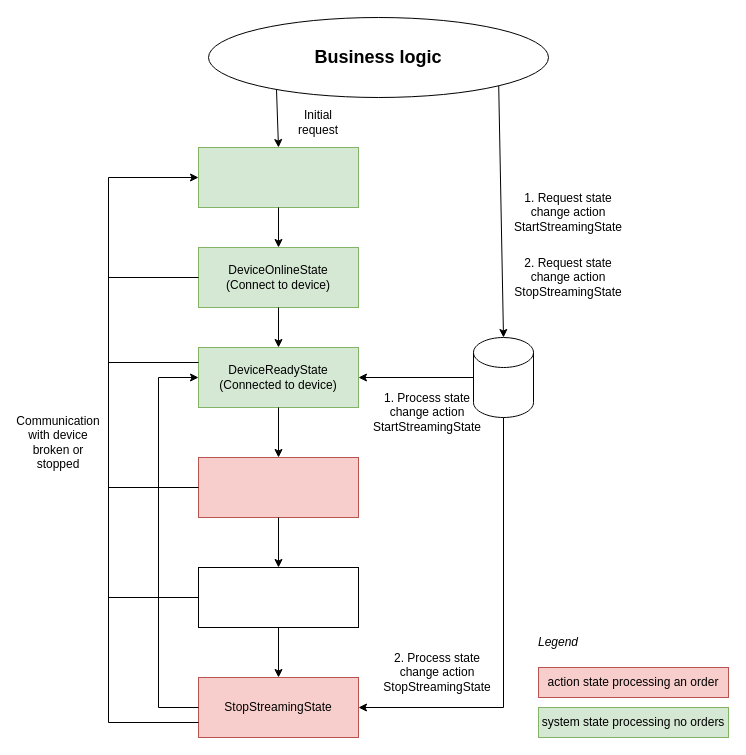
The diagram is 746 pixels wide and 755 high, and some of its shapes have lost their labels. The centre of each missing label's shape, as x and y in pixels:
"DeviceOfflineState (Ping device)" goes at point 278,177.
"StartStreamingState" goes at point 278,487.
"StreamingState" goes at point 278,597.
